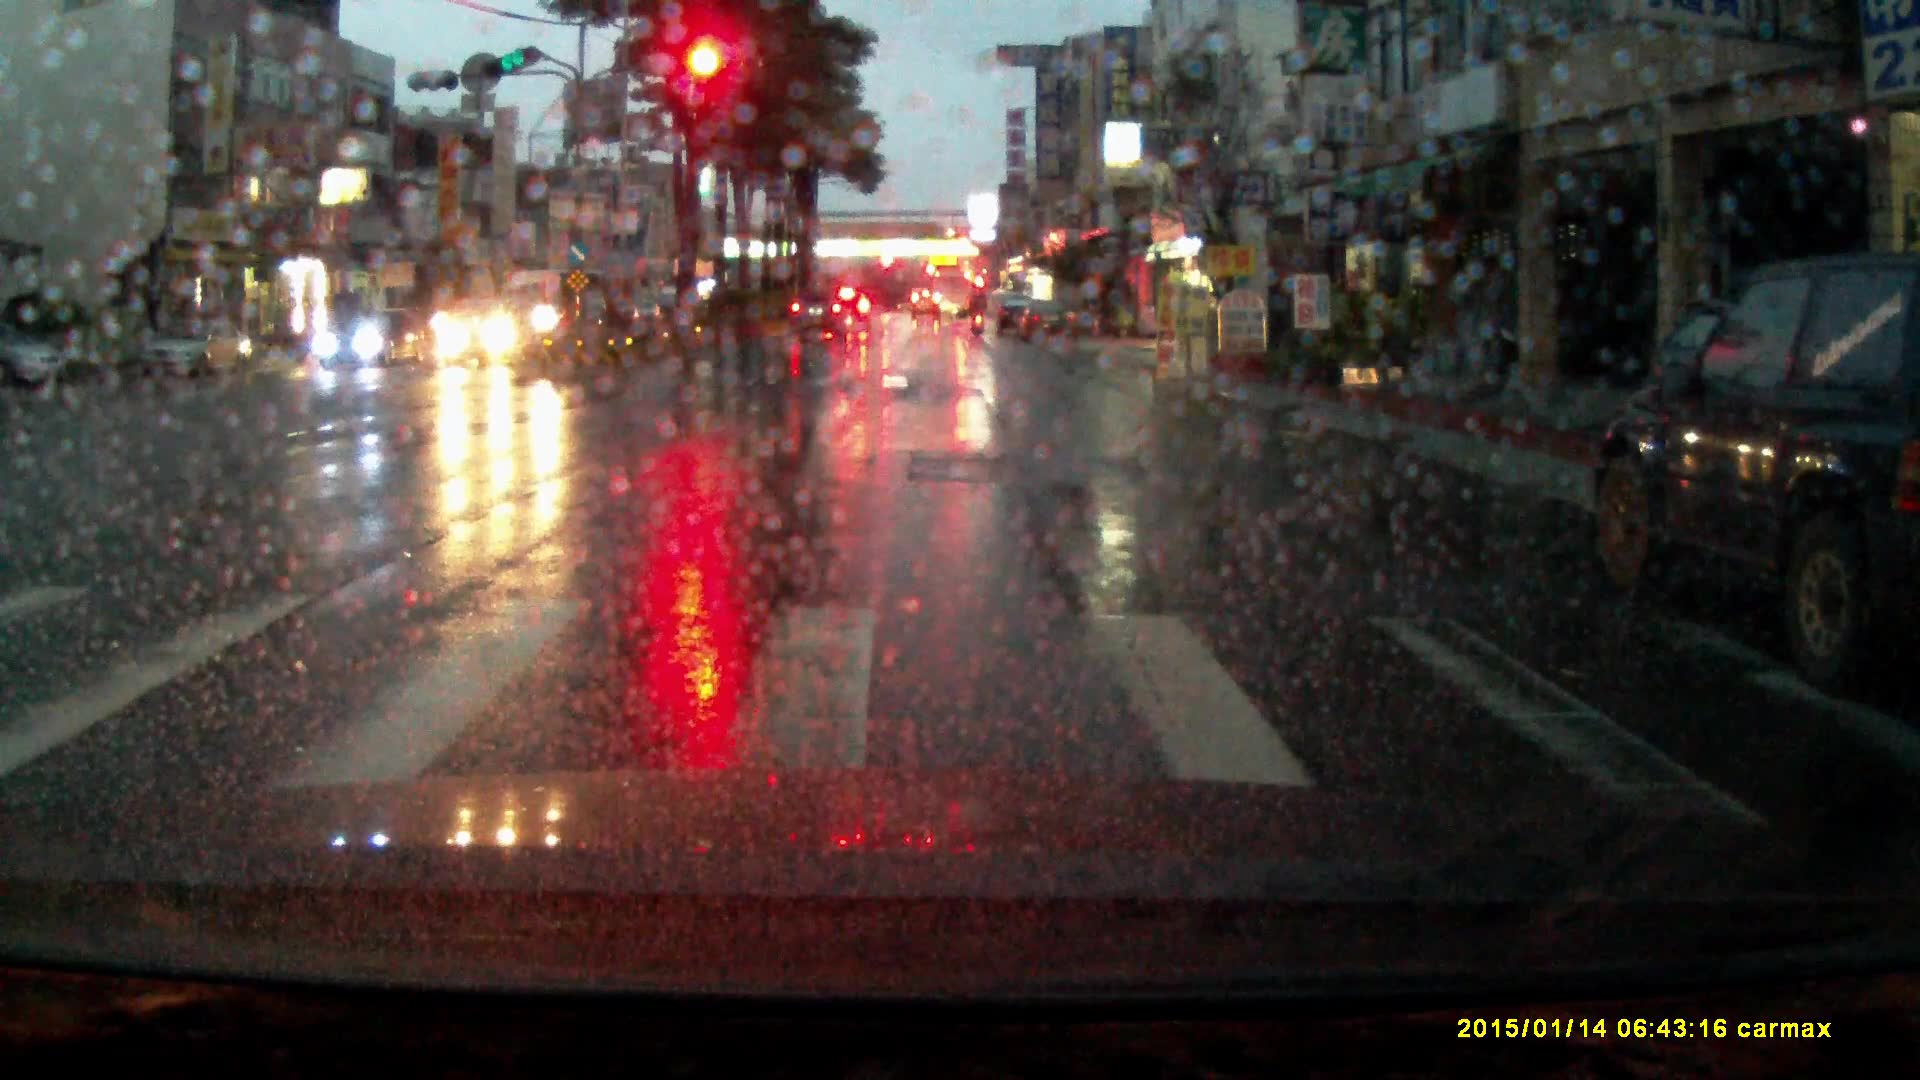rider: (970, 285, 990, 338)
vehicle: (1582, 248, 1920, 683), (431, 298, 546, 370), (316, 306, 428, 375), (142, 314, 253, 380), (494, 268, 591, 341), (574, 288, 664, 340), (1, 331, 69, 389), (789, 290, 851, 345), (1017, 300, 1079, 346), (931, 264, 973, 321), (995, 295, 1030, 338), (841, 289, 874, 326), (911, 291, 943, 322)
